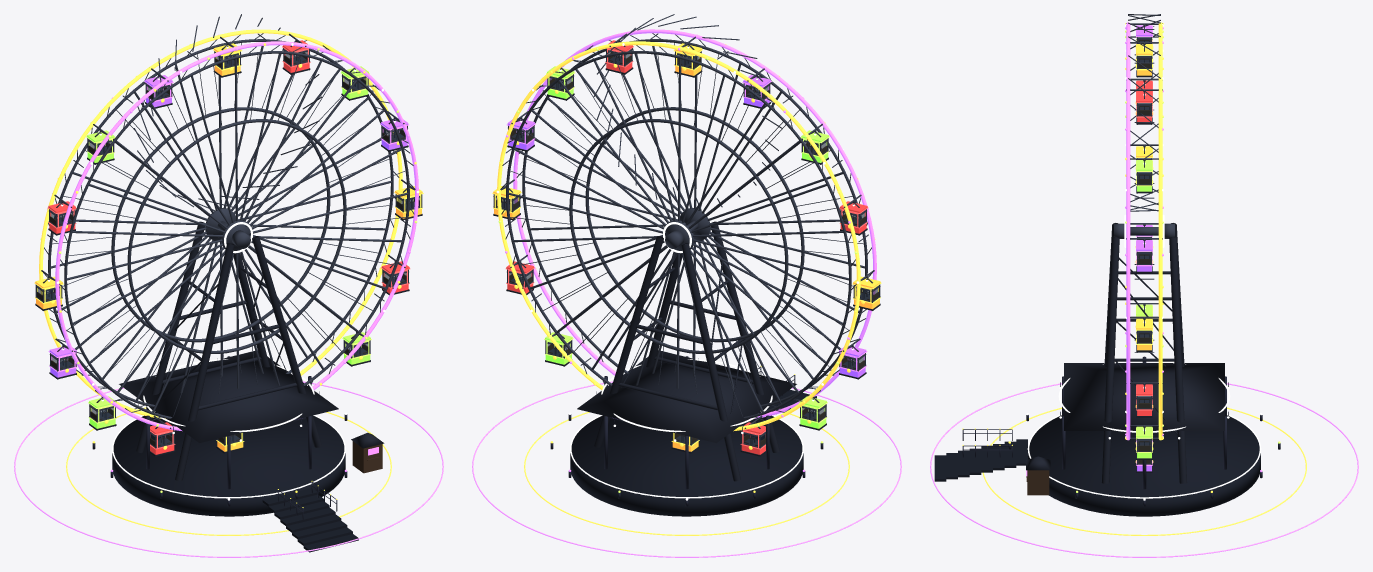
Rendered from ferris_wheel.glb.
3 renders of one model, left to right at view 1: azimuth 30°, elevation 25°; view 2: azimuth 150°, elevation 25°; view 3: azimuth 270°, elevation 25°, orthographic.
Parts seen in each view (by area): view 1: FW_Platform, FW_CanopyRoof, FW_RimOuter_-1, FW_RimOuter_1, FW_RimInner_-1, FW_InnerRing_-1, FW_RimInner_1, FW_InnerRing_1, FW_Leg_-1_-1, FW_Leg_1_-1, FW_GroundRing2, FW_Leg_-1_1 (+4 smaller); view 2: FW_Platform, FW_CanopyRoof, FW_RimOuter_1, FW_RimOuter_-1, FW_RimInner_1, FW_InnerRing_1, FW_RimInner_-1, FW_InnerRing_-1, FW_Leg_-1_1, FW_Leg_1_1, FW_GroundRing2, FW_Leg_-1_-1 (+3 smaller); view 3: FW_Platform, FW_CanopyRoof, FW_RimOuter_-1, FW_RimOuter_1, FW_Leg_1_1, FW_Leg_1_-1, FW_GroundRing2, FW_GroundRing1, FW_EdgeRing, FW_BoothBody.
Boxes of the visible parts, x1=… form: FW_Platform: x1=112, y1=411, x2=345, y2=516; FW_CanopyRoof: x1=119, y1=350, x2=338, y2=442; FW_RimOuter_-1: x1=55, y1=41, x2=418, y2=431; FW_RimOuter_1: x1=39, y1=29, x2=402, y2=418; FW_RimInner_-1: x1=64, y1=51, x2=409, y2=418; FW_InnerRing_-1: x1=127, y1=119, x2=346, y2=353; FW_RimInner_1: x1=48, y1=39, x2=393, y2=407; FW_InnerRing_1: x1=111, y1=107, x2=330, y2=342; FW_Leg_-1_-1: x1=175, y1=243, x2=234, y2=481; FW_Leg_1_-1: x1=252, y1=236, x2=321, y2=447; FW_GroundRing2: x1=14, y1=381, x2=443, y2=557; FW_Leg_-1_1: x1=136, y1=221, x2=204, y2=452; FW_Platform: x1=570, y1=411, x2=803, y2=516; FW_CanopyRoof: x1=577, y1=350, x2=796, y2=442; FW_RimOuter_1: x1=497, y1=41, x2=860, y2=431; FW_RimOuter_-1: x1=513, y1=29, x2=876, y2=418; FW_RimInner_1: x1=506, y1=51, x2=851, y2=418; FW_InnerRing_1: x1=569, y1=119, x2=788, y2=353; FW_RimInner_-1: x1=522, y1=39, x2=867, y2=407; FW_InnerRing_-1: x1=585, y1=107, x2=804, y2=342; FW_Leg_-1_1: x1=681, y1=243, x2=740, y2=481; FW_Leg_1_1: x1=594, y1=236, x2=663, y2=447; FW_GroundRing2: x1=472, y1=381, x2=901, y2=557; FW_Leg_-1_-1: x1=711, y1=221, x2=779, y2=452; FW_Platform: x1=1028, y1=415, x2=1260, y2=516; FW_CanopyRoof: x1=1064, y1=363, x2=1224, y2=430; FW_RimOuter_-1: x1=1126, y1=22, x2=1130, y2=440; FW_RimOuter_1: x1=1158, y1=22, x2=1162, y2=440; FW_Leg_1_1: x1=1169, y1=236, x2=1187, y2=483; FW_Leg_1_-1: x1=1101, y1=236, x2=1119, y2=483; FW_GroundRing2: x1=930, y1=383, x2=1358, y2=557; FW_GroundRing1: x1=982, y1=407, x2=1306, y2=535; FW_EdgeRing: x1=1027, y1=414, x2=1261, y2=498; FW_BoothBody: x1=1027, y1=470, x2=1049, y2=495.
Size of what is drawn, in the model's own units: 33.86 by 38.02 by 33.1.
